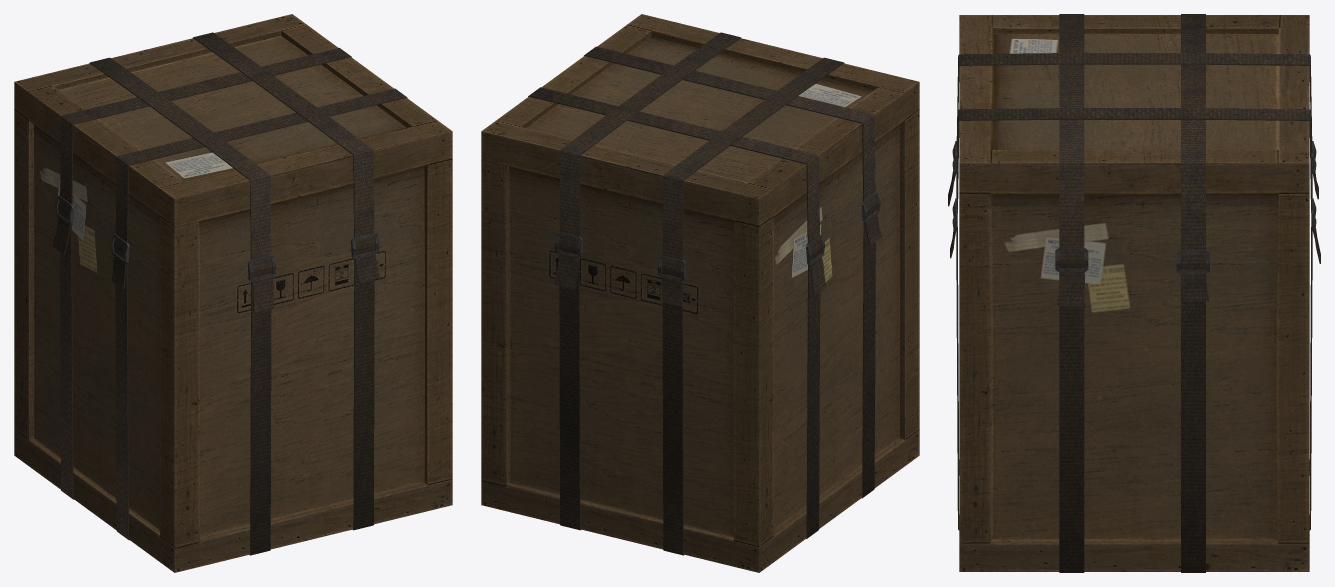
The model's file is wooden_crate_hx_3_1.obj.
The picture shows the model from 3 angles, left to right: view 1: azimuth 30°, elevation 25°; view 2: azimuth 150°, elevation 25°; view 3: azimuth 270°, elevation 25°; orthographic projection. The views are drawn at different scales.
Visible parts, largest first — view 1: wooden_crate_hx_3_1; view 2: wooden_crate_hx_3_1; view 3: wooden_crate_hx_3_1.
Part boxes in pixels (box(x1,y1,x2,y2)): wooden_crate_hx_3_1: box(14, 14, 452, 572); wooden_crate_hx_3_1: box(481, 14, 919, 572); wooden_crate_hx_3_1: box(948, 14, 1320, 572).
Bounding box in the file's own units: 1.49 × 1.82 × 1.49.
